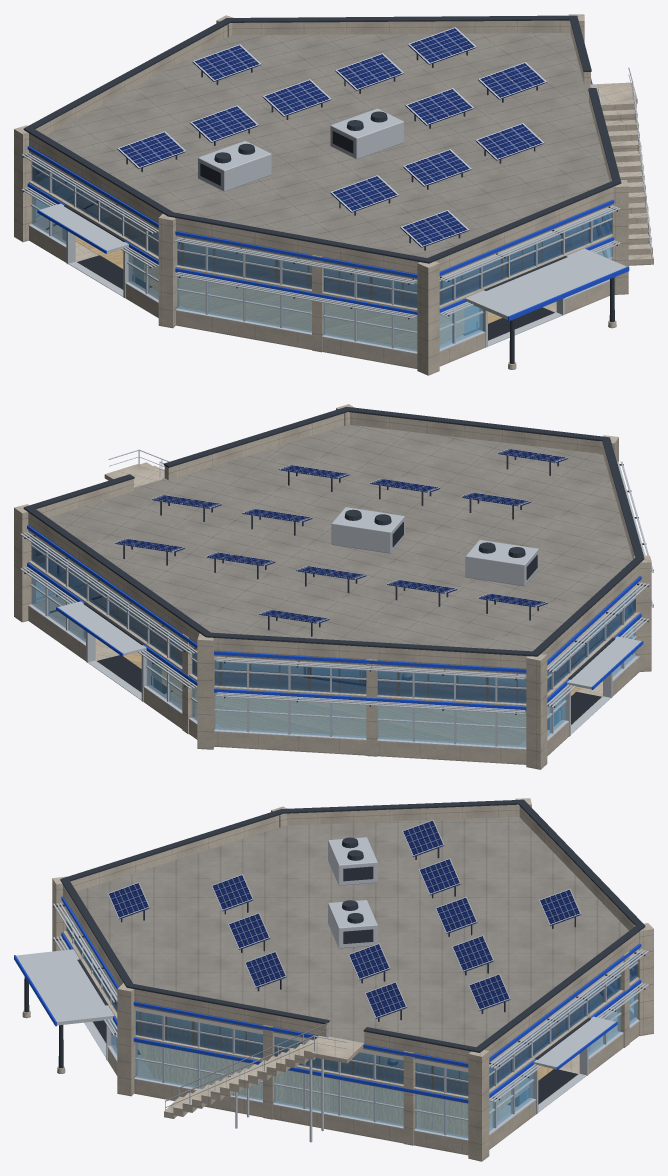
File: landmark_b41.glb
The picture shows the model from 3 angles, top to bottom: view 1: azimuth 30°, elevation 25°; view 2: azimuth 150°, elevation 25°; view 3: azimuth 270°, elevation 25°; orthographic projection. The views are drawn at different scales.
Visible parts, largest first — view 1: B41_RoofDeck, B41_Concrete, B41_AluminumMullions, B41_SolarPanels, B41_OfficeFloorOak, B41_DarkSteel, B41_CurtainGlassUpper, B41_CurtainGlassLower, B41_AccentTrim, B41_WelcomeMats, B41_InteriorDrywall, B41_OfficeFloorConc; view 2: B41_RoofDeck, B41_Concrete, B41_AluminumMullions, B41_OfficeFloorOak, B41_CurtainGlassLower, B41_DarkSteel, B41_CurtainGlassUpper, B41_SolarPanels, B41_AccentTrim, B41_InteriorDrywall, B41_WelcomeMats, B41_OfficeFloorConc; view 3: B41_RoofDeck, B41_Concrete, B41_AluminumMullions, B41_OfficeFloorOak, B41_SolarPanels, B41_DarkSteel, B41_CurtainGlassLower, B41_CurtainGlassUpper, B41_AccentTrim, B41_InteriorDrywall, B41_OfficeFloorConc, B41_WelcomeMats.
Boxes of the visible parts, x1,y1,x2,y2 form: B41_RoofDeck: (29,33,612,279); B41_Concrete: (14,14,653,375); B41_AluminumMullions: (21,67,651,354); B41_SolarPanels: (117,27,546,247); B41_OfficeFloorOak: (75,212,572,349); B41_DarkSteel: (22,15,621,363); B41_CurtainGlassUpper: (31,159,612,308); B41_CurtainGlassLower: (32,191,612,351); B41_AccentTrim: (27,78,629,320); B41_WelcomeMats: (77,255,554,340); B41_InteriorDrywall: (29,151,612,283); B41_OfficeFloorConc: (29,203,603,346); B41_RoofDeck: (28,425,639,674); B41_Concrete: (14,404,651,769); B41_AluminumMullions: (20,449,653,749); B41_OfficeFloorOak: (111,608,598,744); B41_CurtainGlassLower: (31,572,635,747); B41_DarkSteel: (23,406,653,714); B41_CurtainGlassUpper: (31,537,635,703); B41_SolarPanels: (114,449,567,623); B41_AccentTrim: (27,525,643,710); B41_InteriorDrywall: (28,530,639,678); B41_WelcomeMats: (97,655,601,729); B41_OfficeFloorConc: (50,596,639,764); B41_RoofDeck: (63,817,639,1068); B41_Concrete: (22,798,653,1161); B41_AluminumMullions: (16,837,648,1142); B41_OfficeFloorOak: (108,989,583,1135); B41_SolarPanels: (107,819,581,1018); B41_DarkSteel: (24,799,645,1100); B41_CurtainGlassLower: (66,944,637,1138); B41_CurtainGlassUpper: (66,911,637,1096); B41_AccentTrim: (14,896,641,1103); B41_InteriorDrywall: (63,902,639,1072); B41_OfficeFloorConc: (92,976,623,1154); B41_WelcomeMats: (93,1020,577,1106).
Bounding box in the file's own units: 39.35 × 8.12 × 40.09.
16 materials, 6 textured.
